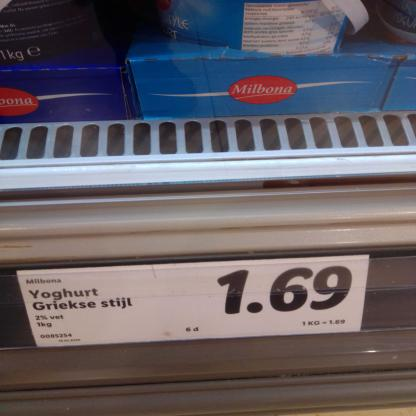prtg: (17, 255, 372, 348)
